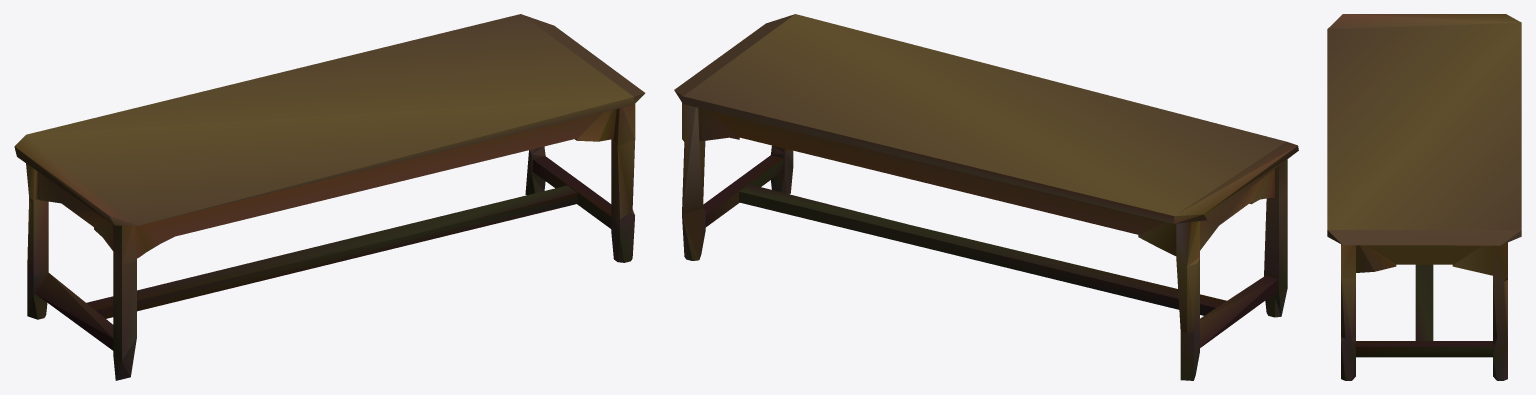
Rendered from WoodenTable_01.glb.
3 views of the same model, side by side, from view 1: azimuth 30°, elevation 25°; view 2: azimuth 150°, elevation 25°; view 3: azimuth 270°, elevation 25° (orthographic). The views are drawn at different scales.
Parts seen in each view (by area): view 1: WoodenTable_01; view 2: WoodenTable_01; view 3: WoodenTable_01.
Boxes of the visible parts, x1,y1,x2,y2 form: WoodenTable_01: (14, 14, 645, 380); WoodenTable_01: (674, 14, 1298, 380); WoodenTable_01: (1327, 14, 1521, 380).
Bounding box in the file's own units: 0.42 × 0.1281 × 0.1534.
